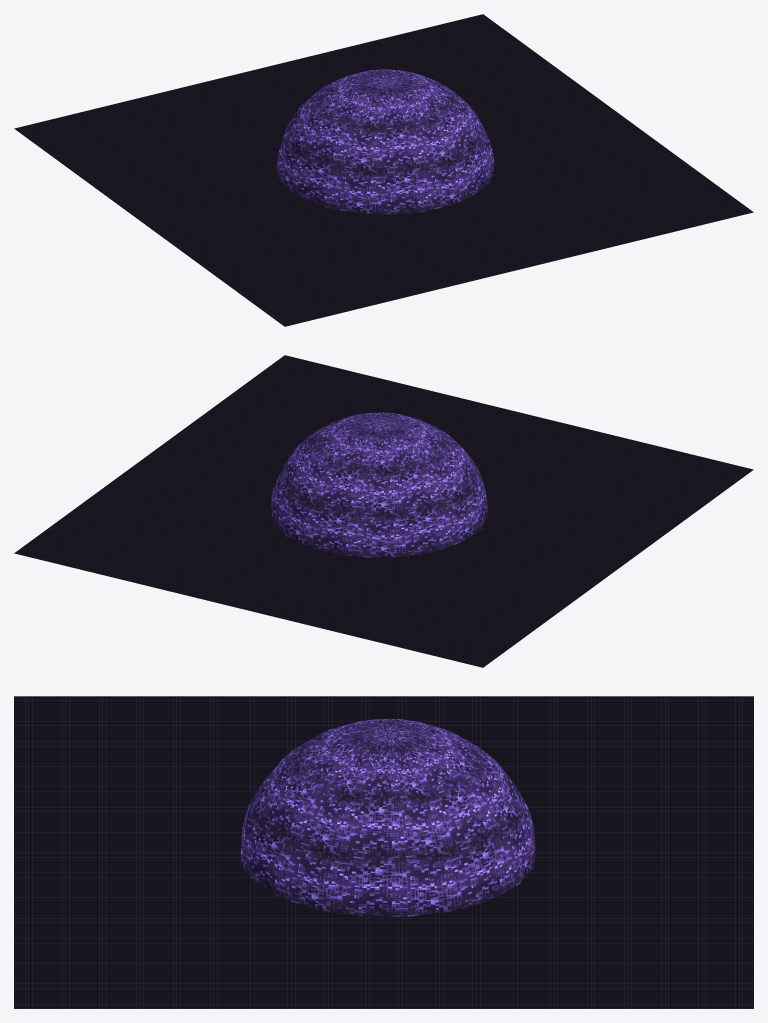
Rendered from radar_grid.glb.
3 renders of one model, top to bottom at view 1: azimuth 30°, elevation 25°; view 2: azimuth 150°, elevation 25°; view 3: azimuth 270°, elevation 25°, orthographic. The views are drawn at different scales.
Visible parts, largest first — view 1: WorldRadarArena, Sphere001; view 2: WorldRadarArena, Sphere001; view 3: WorldRadarArena, Sphere001.
Part boxes in pixels (<box>): WorldRadarArena: <box>14,14,753,326</box>; Sphere001: <box>276,69,494,214</box>; WorldRadarArena: <box>14,355,753,667</box>; Sphere001: <box>270,412,488,557</box>; WorldRadarArena: <box>14,696,753,1008</box>; Sphere001: <box>240,719,535,916</box>.
Bounding box in the file's own units: 400 × 144 × 400.
6 materials, 3 textured.
